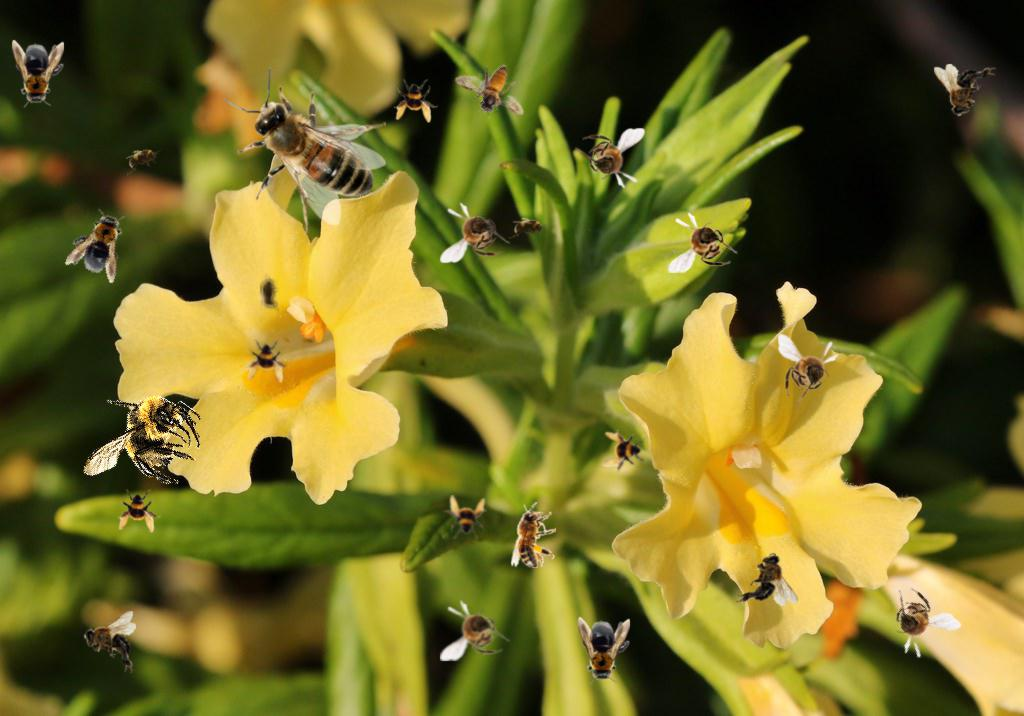Bee: (224, 67, 386, 234), (64, 365, 219, 522), (870, 575, 963, 669), (453, 48, 537, 135), (63, 202, 137, 284), (778, 334, 839, 404), (440, 600, 510, 661), (440, 202, 510, 263), (575, 128, 645, 189), (668, 212, 738, 273), (12, 40, 64, 108), (578, 617, 630, 685), (736, 553, 798, 606), (934, 64, 996, 117), (83, 611, 136, 673), (511, 502, 556, 568), (246, 339, 290, 383), (602, 430, 646, 474), (443, 495, 487, 539), (394, 79, 438, 123), (117, 489, 161, 533), (120, 142, 166, 176), (258, 273, 280, 313), (509, 217, 549, 239)
